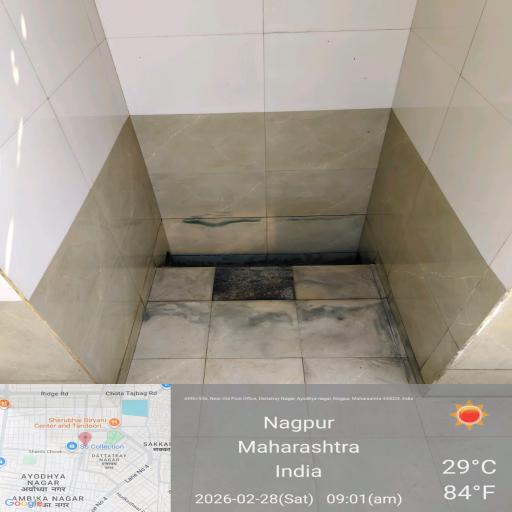clean_floor: (3, 4, 506, 206), (6, 216, 100, 369), (419, 222, 512, 368)
partial_dirty_floor: (120, 210, 438, 384)
